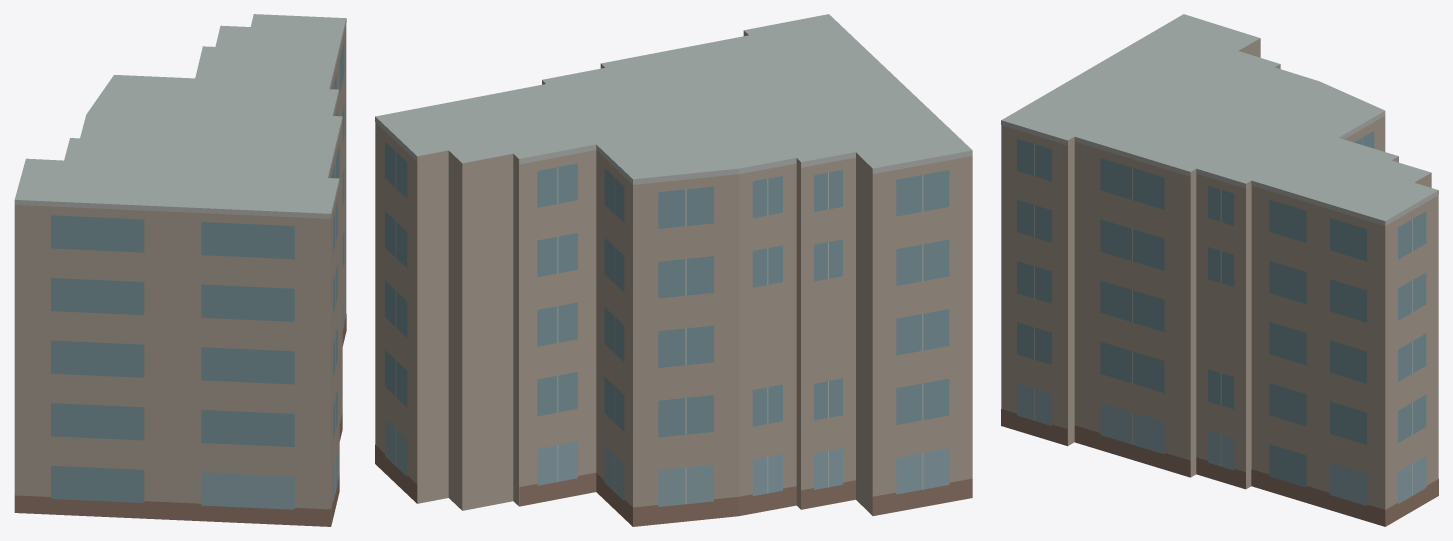
File: survey-upis-33000833.glb
3 views of the same model, side by side, from view 1: azimuth 30°, elevation 25°; view 2: azimuth 150°, elevation 25°; view 3: azimuth 270°, elevation 25° (orthographic). The views are drawn at different scales.
Visible parts, largest first — view 1: survey-upis-33000833.tmp; view 2: survey-upis-33000833.tmp; view 3: survey-upis-33000833.tmp.
Boxes of the visible parts, x1,y1,x2,y2 form: survey-upis-33000833.tmp: [14, 14, 346, 526]; survey-upis-33000833.tmp: [375, 14, 972, 526]; survey-upis-33000833.tmp: [1001, 14, 1438, 526].
Size of the model in its own units: 22.18 by 15.25 by 19.8.
